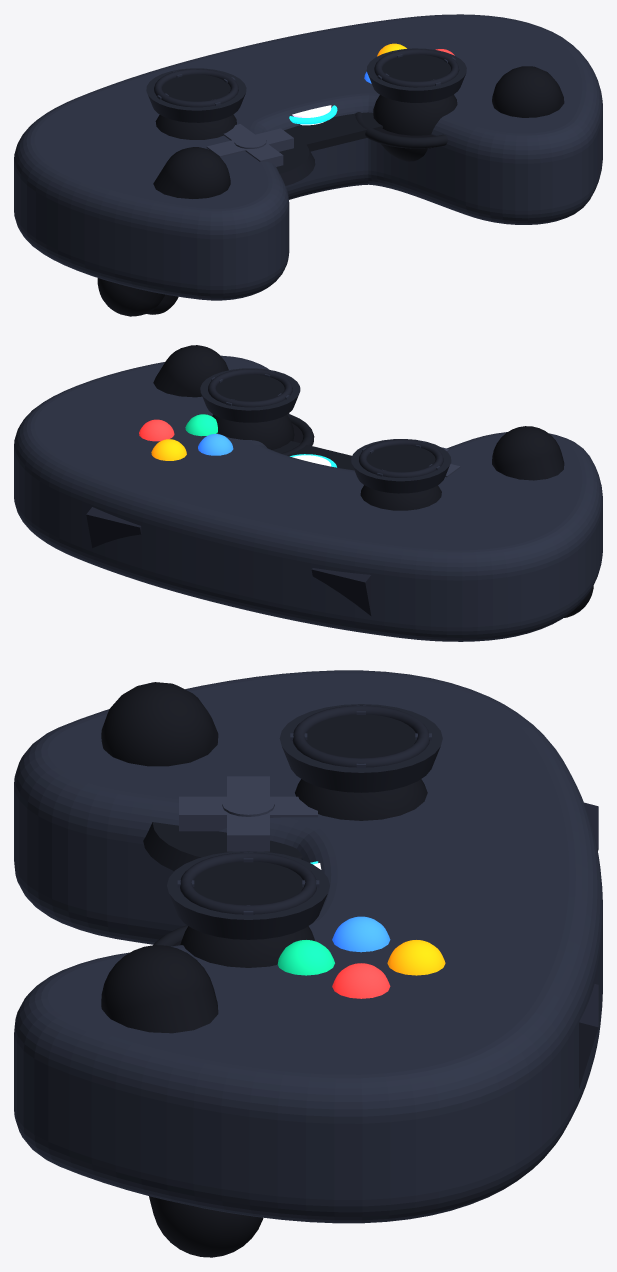
The model's file is gamepad.glb.
3 renders of one model, top to bottom at view 1: azimuth 30°, elevation 25°; view 2: azimuth 150°, elevation 25°; view 3: azimuth 270°, elevation 25°, orthographic. The views are drawn at different scales.
Parts seen in each view (by area): view 1: Body, Stick_R_Ball, Stick_R_Cap, Stick_L_Cap, Stick_L_Dish, Stick_R_Dish, Stick_L_Ball, Stick_L_Rim, Stick_R_Rim, Dpad_Base, Dpad_Right, Dpad_Down (+1 smaller); view 2: Body, Stick_R_Cap, Stick_L_Cap, Stick_R_Ball, Stick_R_Dish, Stick_L_Dish, Trigger_LT_Blade, Stick_L_Ball, Trigger_RT_Blade, Stick_R_Rim, Stick_L_Rim, Button_B (+3 smaller); view 3: Body, Stick_L_Cap, Stick_R_Cap, Stick_R_Dish, Stick_L_Dish, Stick_L_Ball, Stick_R_Ball, Stick_L_Rim, Stick_R_Rim, Dpad_Base, Dpad_Down, Button_B (+8 smaller).
Boxes of the visible parts, box(x1,y1,x2,y2) form: Body: box(14, 14, 602, 316); Stick_R_Ball: box(373, 94, 457, 161); Stick_R_Cap: box(366, 48, 466, 102); Stick_L_Cap: box(146, 68, 246, 122); Stick_L_Dish: box(162, 74, 230, 101); Stick_R_Dish: box(382, 54, 450, 81); Stick_L_Ball: box(155, 114, 236, 139); Stick_L_Rim: box(154, 69, 238, 107); Stick_R_Rim: box(374, 49, 459, 87); Dpad_Base: box(276, 133, 315, 185); Dpad_Right: box(256, 128, 293, 151); Dpad_Down: box(245, 144, 283, 166); Body: box(14, 345, 602, 641); Stick_R_Cap: box(200, 368, 300, 422); Stick_L_Cap: box(351, 439, 451, 493); Stick_R_Ball: box(212, 414, 294, 449); Stick_R_Dish: box(216, 374, 284, 401); Stick_L_Dish: box(367, 445, 435, 472); Trigger_LT_Blade: box(311, 568, 371, 615); Stick_L_Ball: box(360, 485, 441, 510); Trigger_RT_Blade: box(86, 507, 141, 547); Stick_R_Rim: box(208, 369, 292, 407); Stick_L_Rim: box(359, 439, 443, 477); Button_B: box(139, 419, 174, 441); Body: box(14, 670, 602, 1257); Stick_L_Cap: box(279, 704, 442, 792); Stick_R_Cap: box(167, 851, 329, 939); Stick_R_Dish: box(193, 861, 303, 904); Stick_L_Dish: box(306, 714, 416, 757); Stick_L_Ball: box(295, 779, 427, 820); Stick_R_Ball: box(180, 926, 314, 967); Stick_L_Rim: box(292, 705, 429, 767); Stick_R_Rim: box(180, 852, 316, 914); Dpad_Base: box(143, 822, 302, 871); Dpad_Down: box(179, 796, 226, 831); Button_B: box(332, 963, 390, 998).
Size of the model in its own units: 4.24 by 1.29 by 2.45.
